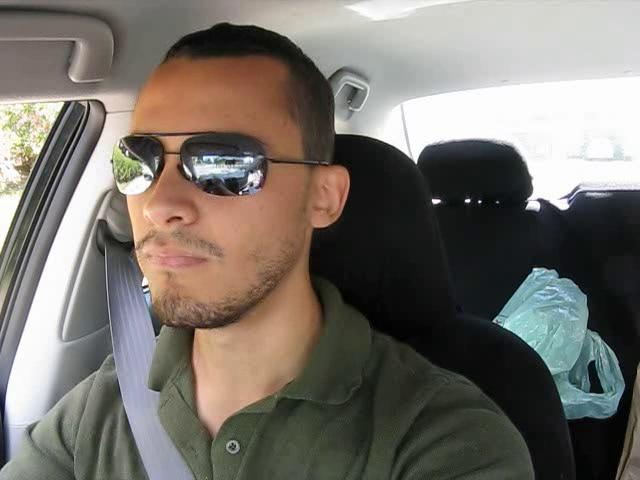no_yawn: (131, 235, 222, 278)
